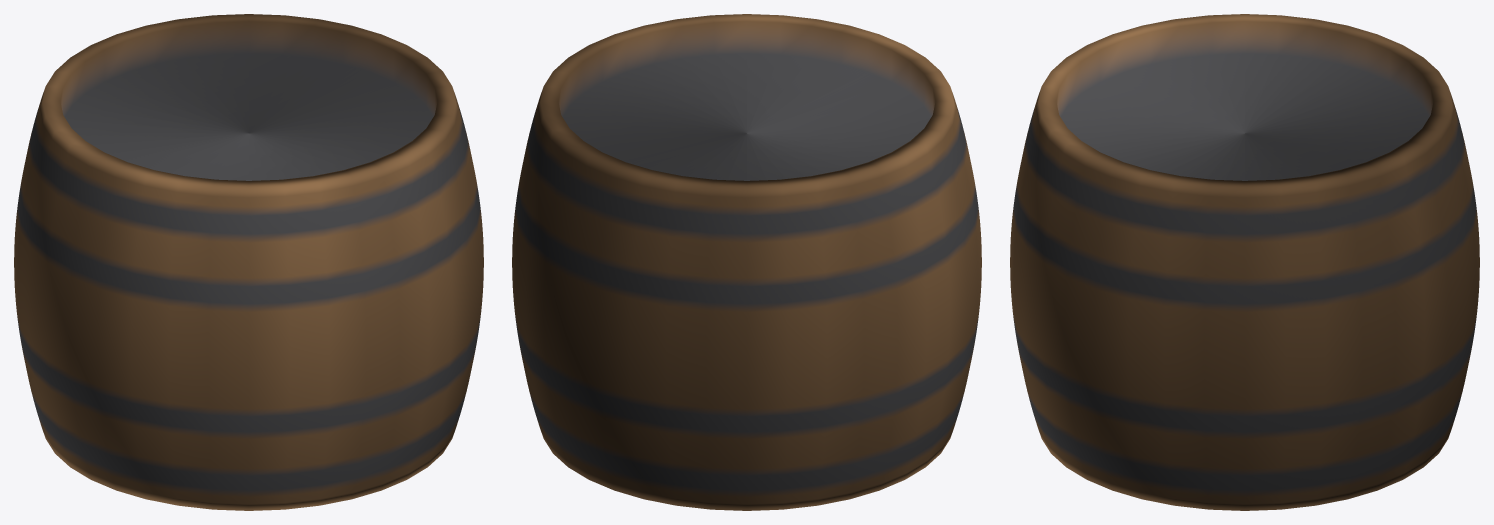
Rendered from golden-rain-barrel.glb.
The picture shows the model from 3 angles, left to right: view 1: azimuth 30°, elevation 25°; view 2: azimuth 150°, elevation 25°; view 3: azimuth 270°, elevation 25°; orthographic projection.
Parts seen in each view (by area): view 1: golden-rain-barrel; view 2: golden-rain-barrel; view 3: golden-rain-barrel.
Part boxes in pixels (x1,y1,x2,y2): golden-rain-barrel: [14, 14, 483, 510]; golden-rain-barrel: [512, 14, 981, 510]; golden-rain-barrel: [1010, 14, 1479, 510].
Size of the model in its own units: 1.32 by 1 by 1.32.
